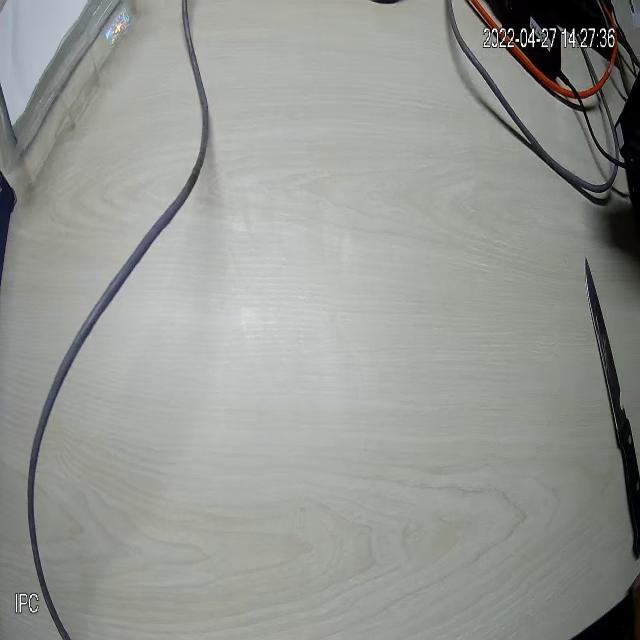knife: (584, 256, 636, 474)
